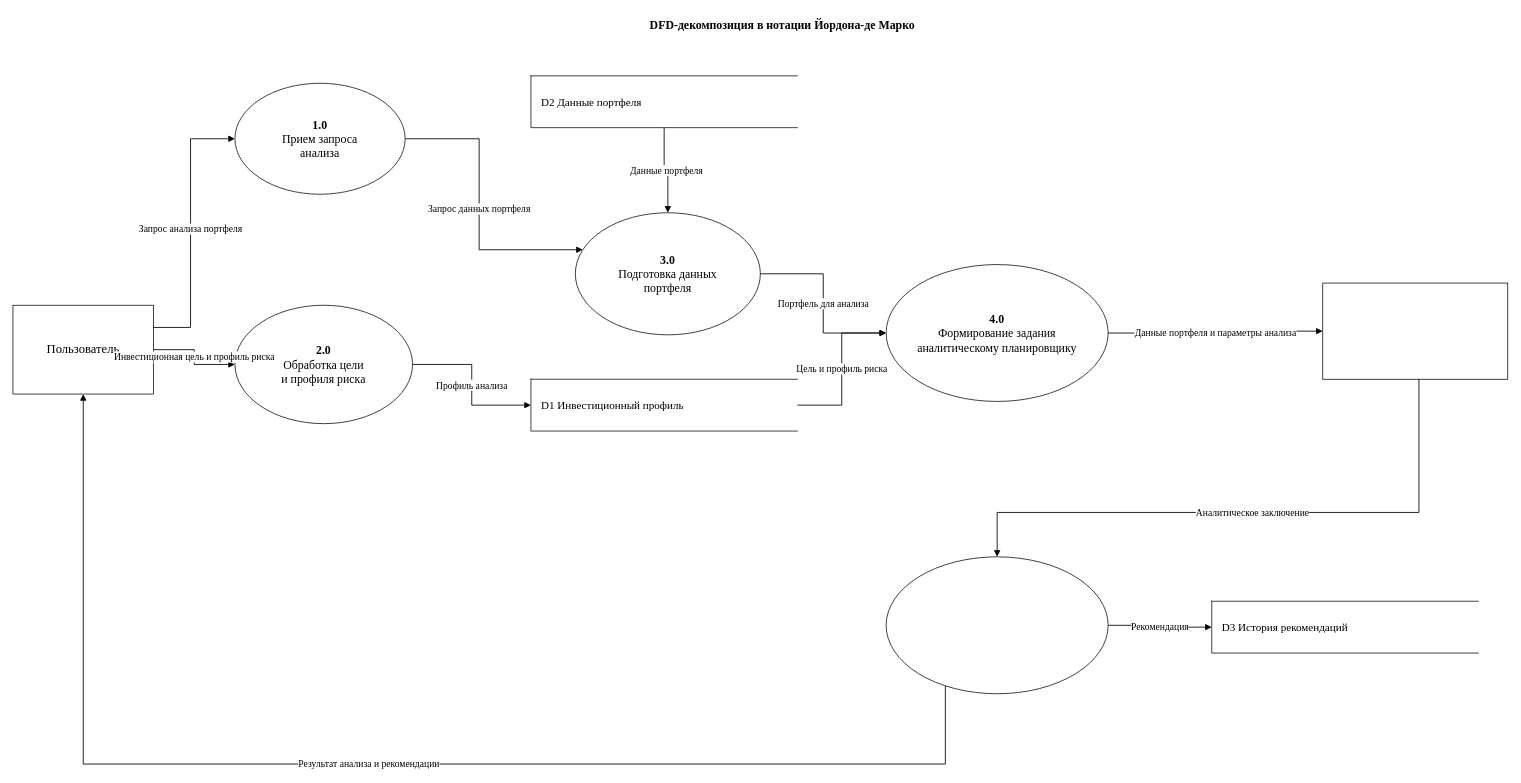
This 1521x783 diagram has some shape labels left out. The shapes that lost their labels are listed below. From the top down, each one's centre as x and y in pixels, then its label:
At point (1415, 330): "Аналитический планировщик".
At point (996, 625): "5.0 Формирование и сохранение рекомендации".
